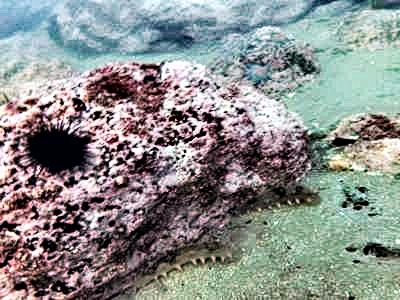urchin: (29, 125, 87, 168)
